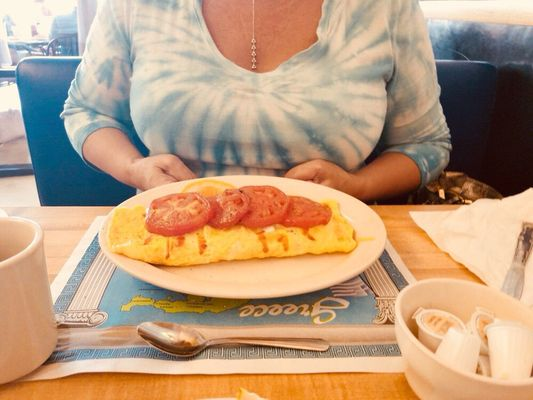burger: (360, 257, 399, 325)
pizza: (0, 212, 60, 386)
sushi: (393, 278, 533, 400)
